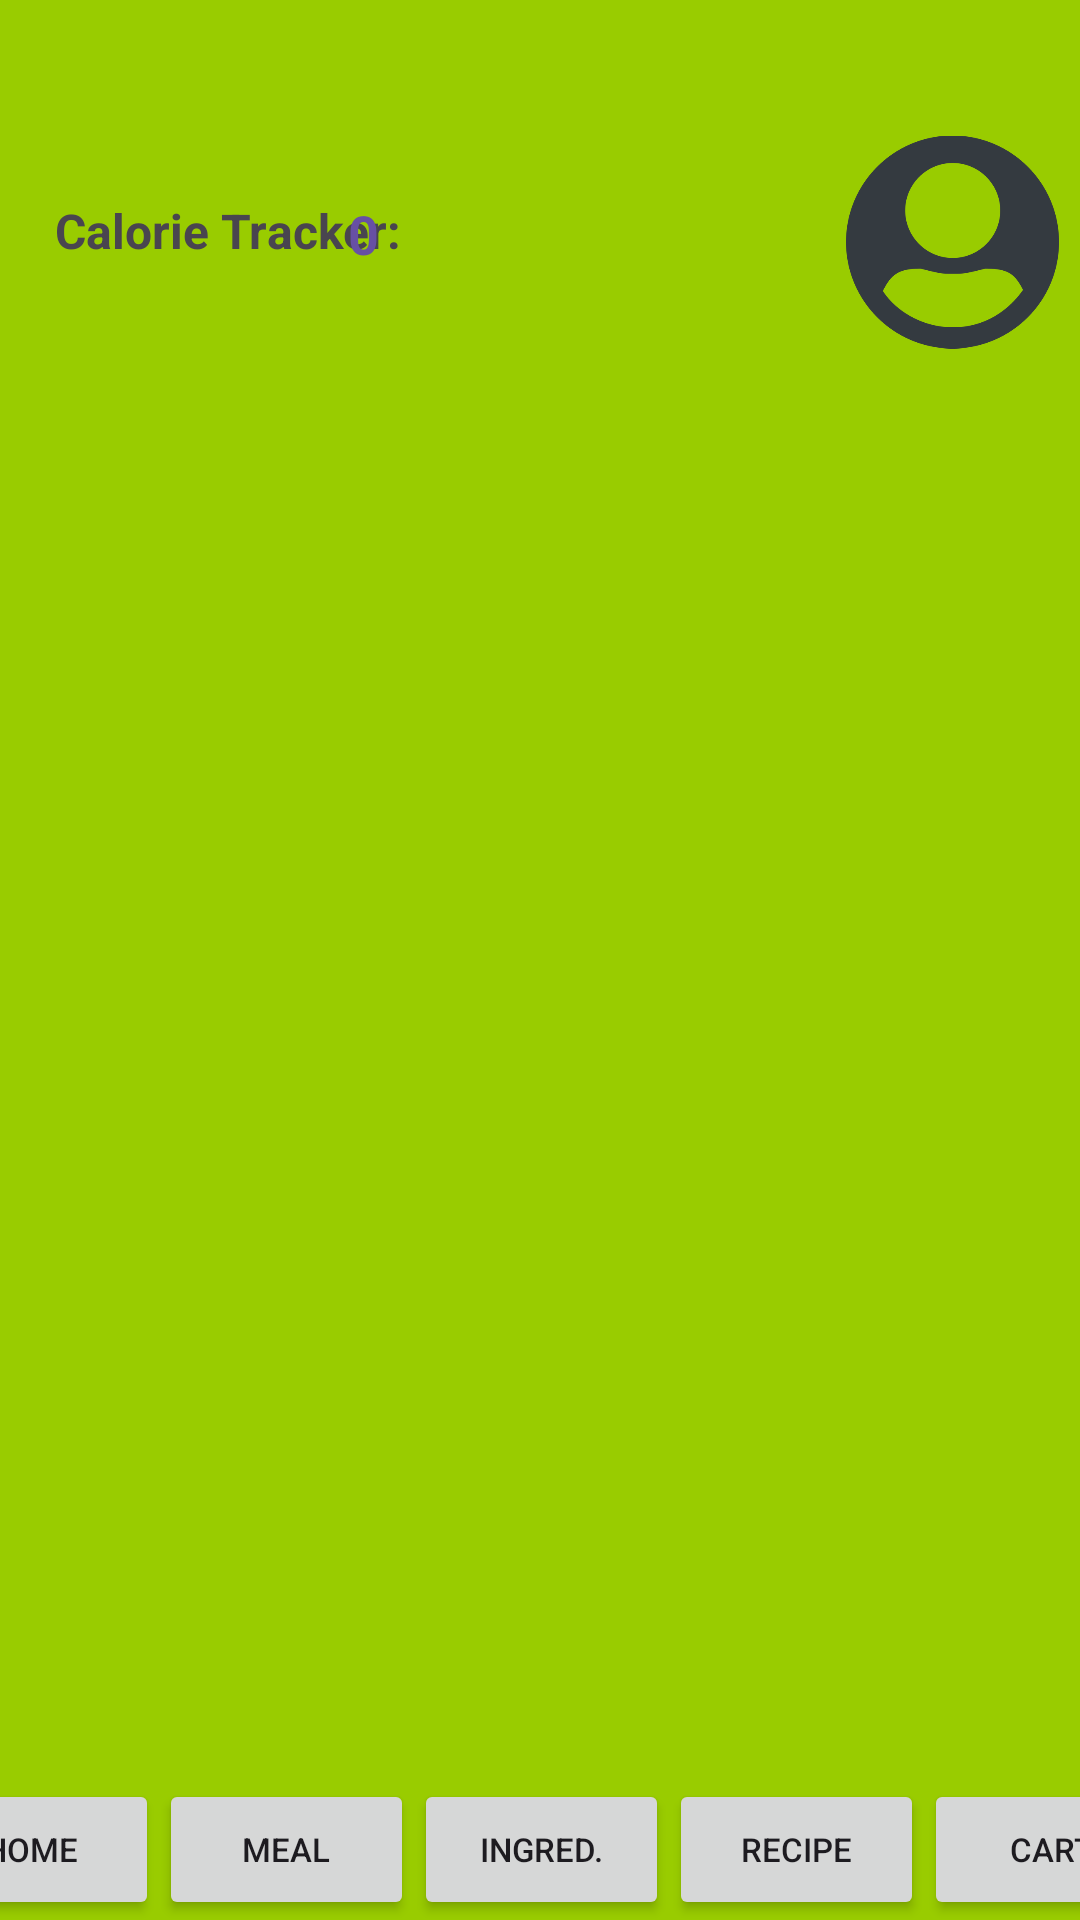

Icon bounding boxes for this 1080px×1920px phone screenshot, format {"left": x1, "top": y1, "right": x2, "bottom": y2}:
profile picture: {"left": 846, "top": 136, "right": 1059, "bottom": 349}
